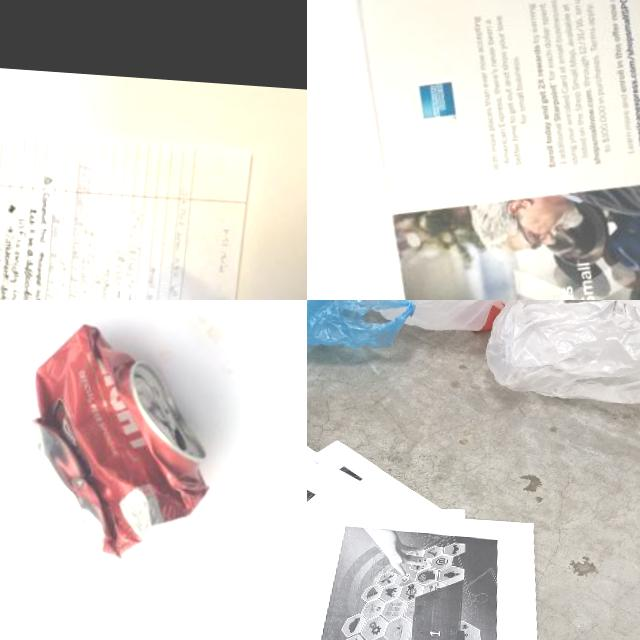lata: (19, 318, 222, 567)
papel: (333, 0, 640, 300), (307, 429, 571, 640), (0, 118, 252, 300)
sacola plástica: (484, 300, 640, 407), (365, 300, 571, 338)
